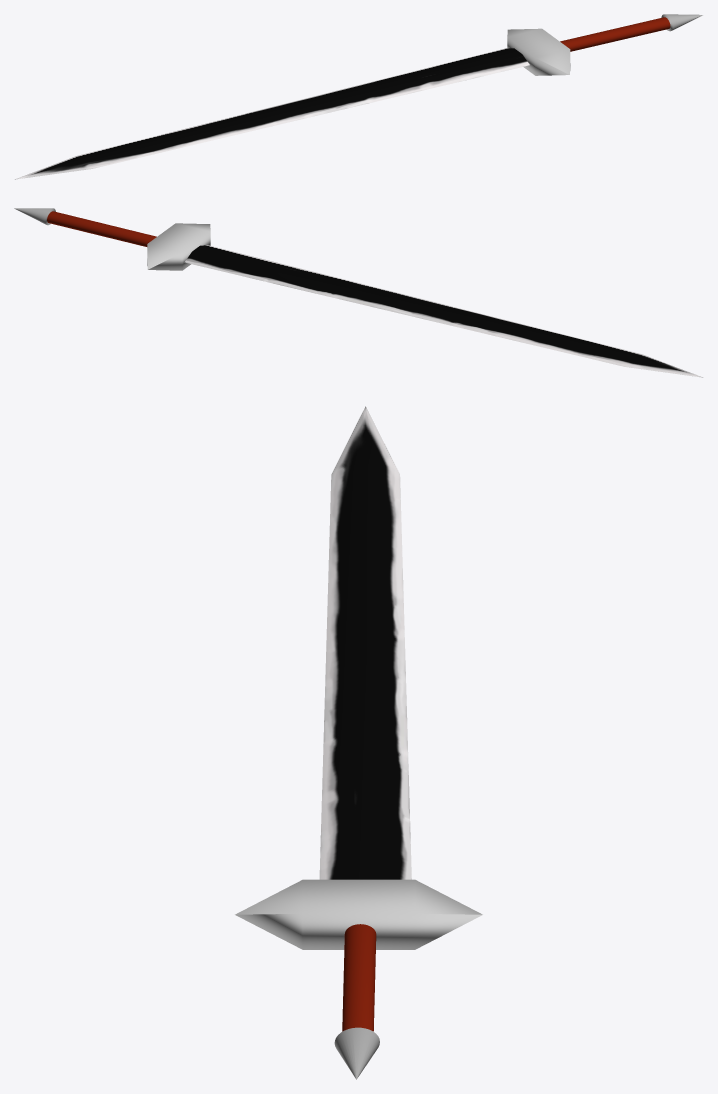
The model's file is sodo.fbx.
The picture shows the model from 3 angles, top to bottom: view 1: azimuth 30°, elevation 25°; view 2: azimuth 150°, elevation 25°; view 3: azimuth 270°, elevation 25°; orthographic projection. The views are drawn at different scales.
Parts seen in each view (by area): view 1: Cube, Cube_001, Cylinder; view 2: Cube, Cube_001, Cylinder; view 3: Cube, Cube_001, Cylinder.
Part boxes in pixels (<box>): Cube: <box>15,48,529,179</box>; Cube_001: <box>507,28,570,75</box>; Cylinder: <box>560,14,702,51</box>; Cube: <box>184,245,702,377</box>; Cube_001: <box>147,223,210,270</box>; Cylinder: <box>14,208,156,246</box>; Cube: <box>319,406,411,879</box>; Cube_001: <box>235,879,482,949</box>; Cylinder: <box>334,924,379,1079</box>.
Size of the model in its own units: 34 by 0.8534 by 5.32.
